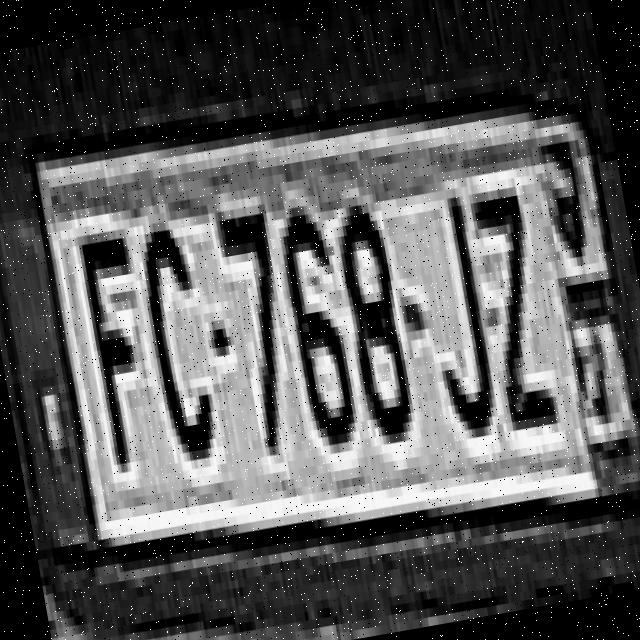EU: (0, 110, 640, 561)
France: (0, 159, 97, 550)
